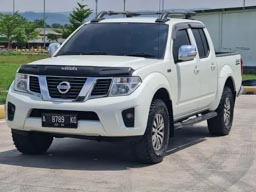plat: (42, 113, 78, 123)
